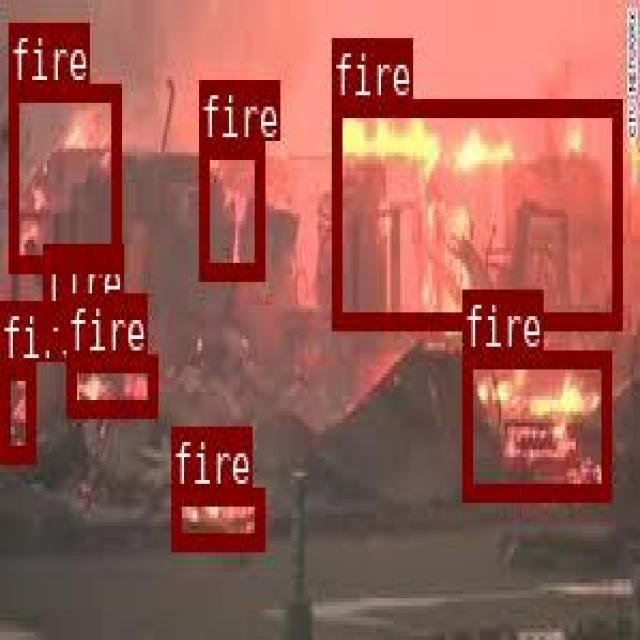fire: (330, 95, 621, 327), (462, 351, 609, 497), (9, 83, 120, 267), (199, 140, 263, 277), (171, 486, 263, 548), (65, 353, 155, 413), (0, 358, 34, 461), (41, 301, 71, 345)
